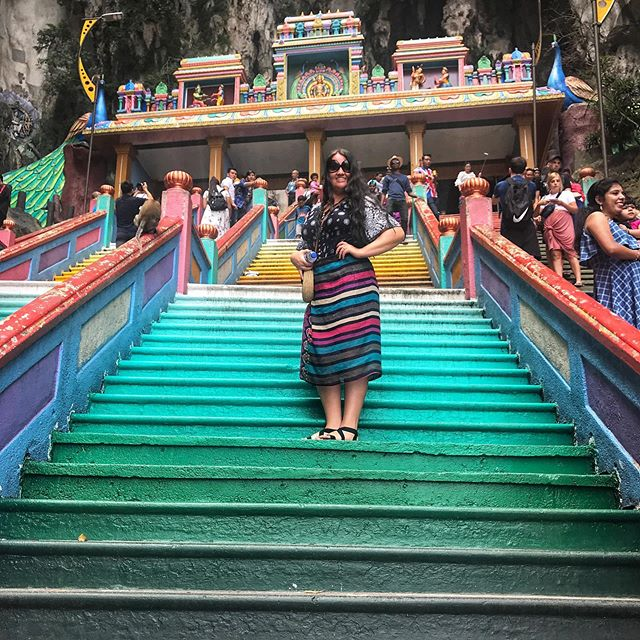Hindu Temple: (108, 29, 534, 135)
